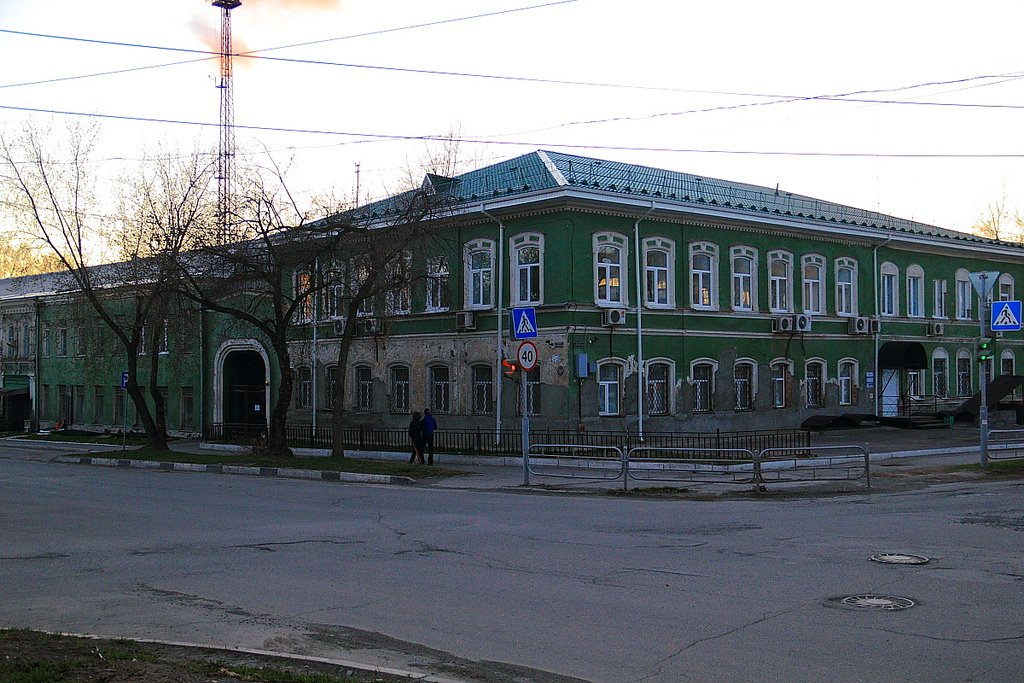sign: (990, 299, 1022, 333), (509, 306, 537, 340), (517, 340, 538, 372)
